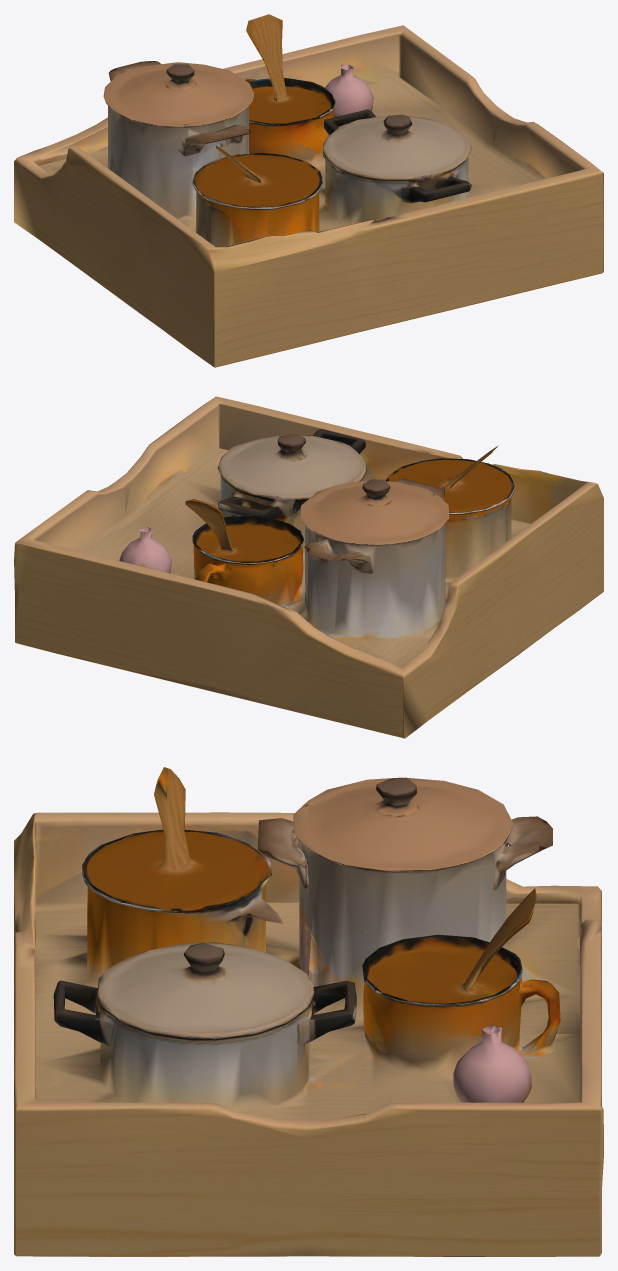
File: MuebleDeCocina.fbx
3 renders of one model, top to bottom at view 1: azimuth 30°, elevation 25°; view 2: azimuth 150°, elevation 25°; view 3: azimuth 270°, elevation 25°, orthographic. The views are drawn at different scales.
Visible parts, largest first — view 1: tripo_node_cec2e5a8; view 2: tripo_node_cec2e5a8; view 3: tripo_node_cec2e5a8.
Boxes of the visible parts, left/top/right/bottom form: tripo_node_cec2e5a8: left=14, top=14, right=603, bottom=367; tripo_node_cec2e5a8: left=14, top=396, right=603, bottom=738; tripo_node_cec2e5a8: left=14, top=767, right=603, bottom=1256.
Bounding box in the file's own units: 0.9997 × 0.4403 × 0.894.
Materials: 1 (1 with a texture image).
